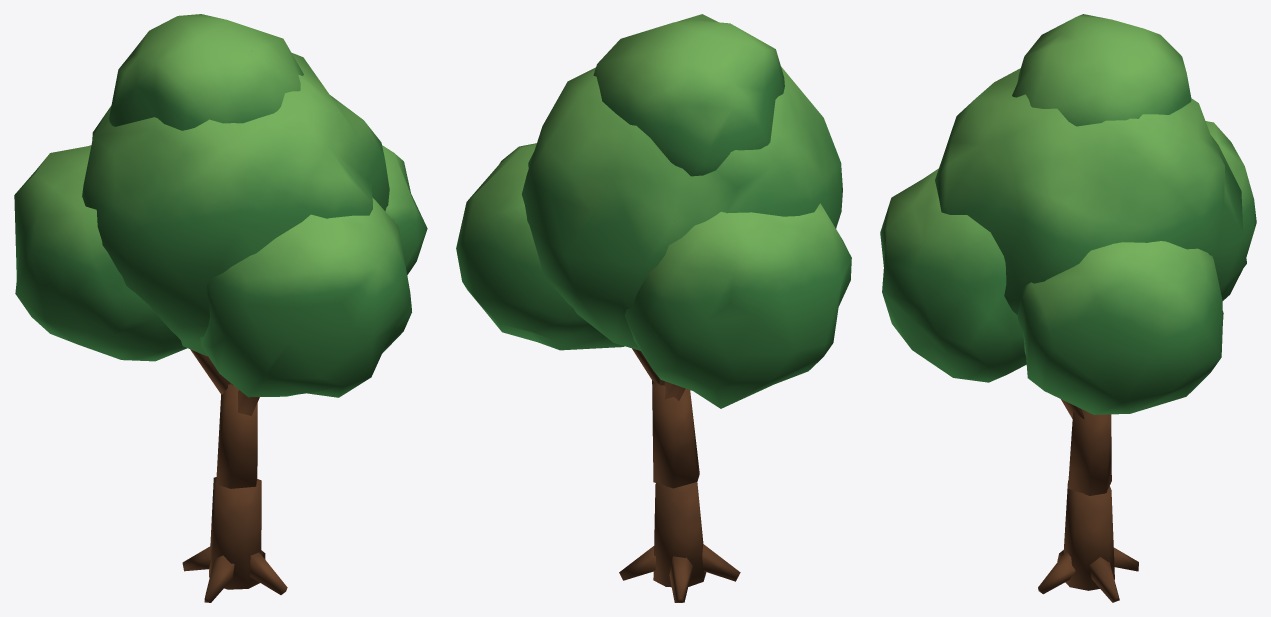
The model's file is season_decid_a_summer.glb.
The picture shows the model from 3 angles, left to right: view 1: azimuth 30°, elevation 25°; view 2: azimuth 150°, elevation 25°; view 3: azimuth 270°, elevation 25°; orthographic projection. The views are drawn at different scales.
Visible parts, largest first — view 1: branches; view 2: branches; view 3: branches.
Boxes of the visible parts, x1,y1,x2,y2 form: branches: (14, 14, 427, 602); branches: (456, 14, 851, 602); branches: (880, 14, 1256, 602).
Size of the model in its own units: 2.65 by 3.87 by 2.42.
1 material, 1 textured.
